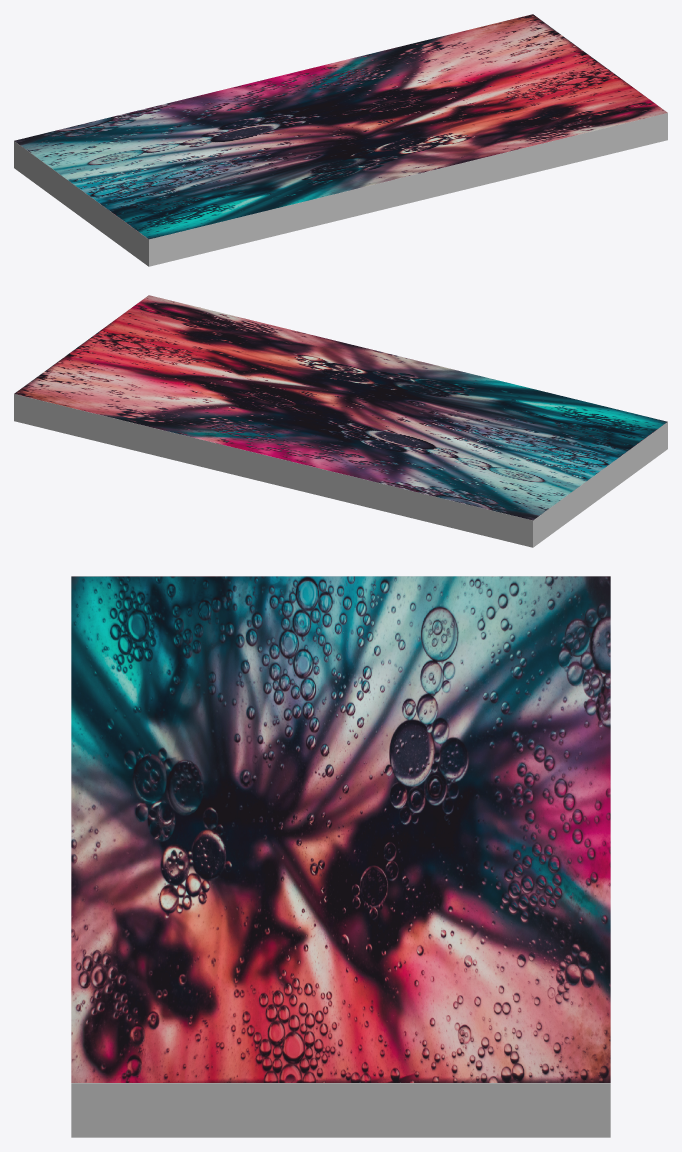
The model's file is screen7.glb.
The picture shows the model from 3 angles, top to bottom: view 1: azimuth 30°, elevation 25°; view 2: azimuth 150°, elevation 25°; view 3: azimuth 270°, elevation 25°; orthographic projection. The views are drawn at different scales.
Parts seen in each view (by area): view 1: Cube.054, Cube.003, Plane.025, Cube.001, Cube.025, Plane, Plane.017, Plane.039, Plane.008, Plane.011, Plane.016, Plane.057 (+58 smaller); view 2: Cube.045, Cube.037, Plane.025, Cube.036, Cube, Cube.002, Cube.044, Plane, Plane.017, Plane.039, Plane.008, Plane.011 (+59 smaller); view 3: Plane.025, Cube.004, Plane, Plane.008, Plane.039, Plane.011, Plane.017, Plane.016, Plane.057, Plane.024, Plane.009, Plane.020 (+54 smaller).
Boxes of the visible parts, <box> form: Cube.054: <box>437,130,595,196</box>; Cube.003: <box>142,205,290,266</box>; Plane.025: <box>349,139,502,185</box>; Cube.001: <box>595,113,667,157</box>; Cube.025: <box>367,169,436,213</box>; Plane: <box>417,14,542,68</box>; Plane.017: <box>357,69,528,115</box>; Plane.039: <box>286,60,426,97</box>; Plane.008: <box>307,122,428,157</box>; Plane.011: <box>471,39,585,76</box>; Plane.016: <box>420,68,573,109</box>; Plane.057: <box>260,56,384,98</box>; Cube.045: <box>363,479,475,533</box>; Cube.037: <box>85,411,185,462</box>; Plane.025: <box>285,342,448,382</box>; Cube.036: <box>224,445,297,489</box>; Cube: <box>14,394,85,438</box>; Cube.002: <box>475,506,541,547</box>; Cube.044: <box>297,463,363,506</box>; Plane: <box>14,386,183,411</box>; Plane.017: <box>130,367,309,407</box>; Plane.039: <box>163,408,307,442</box>; Plane.008: <box>288,378,406,416</box>; Plane.011: <box>49,355,165,390</box>; Plane.025: <box>71,789,153,936</box>; Cube.004: <box>131,1083,254,1137</box>; Plane: <box>502,943,610,1082</box>; Plane.008: <box>222,794,349,898</box>; Plane.039: <box>457,819,540,958</box>; Plane.011: <box>399,986,471,1082</box>; Plane.017: <box>333,852,399,1024</box>; Plane.016: <box>298,905,386,1059</box>; Plane.057: <box>517,804,610,931</box>; Plane.024: <box>255,986,359,1082</box>; Plane.009: <box>350,679,450,801</box>; Plane.020: <box>133,792,236,908</box>.
Bounding box in the file's own units: 40 × 2.01 × 18.
Materials: 2 (1 with a texture image).
